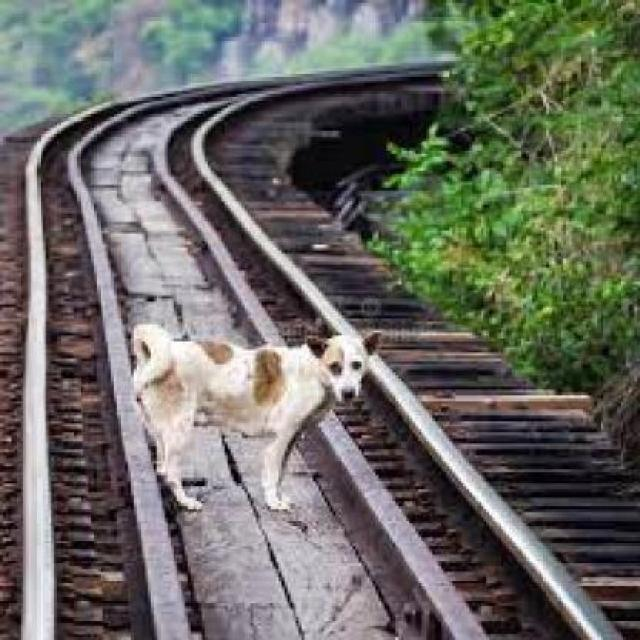rail: (13, 52, 640, 640)
